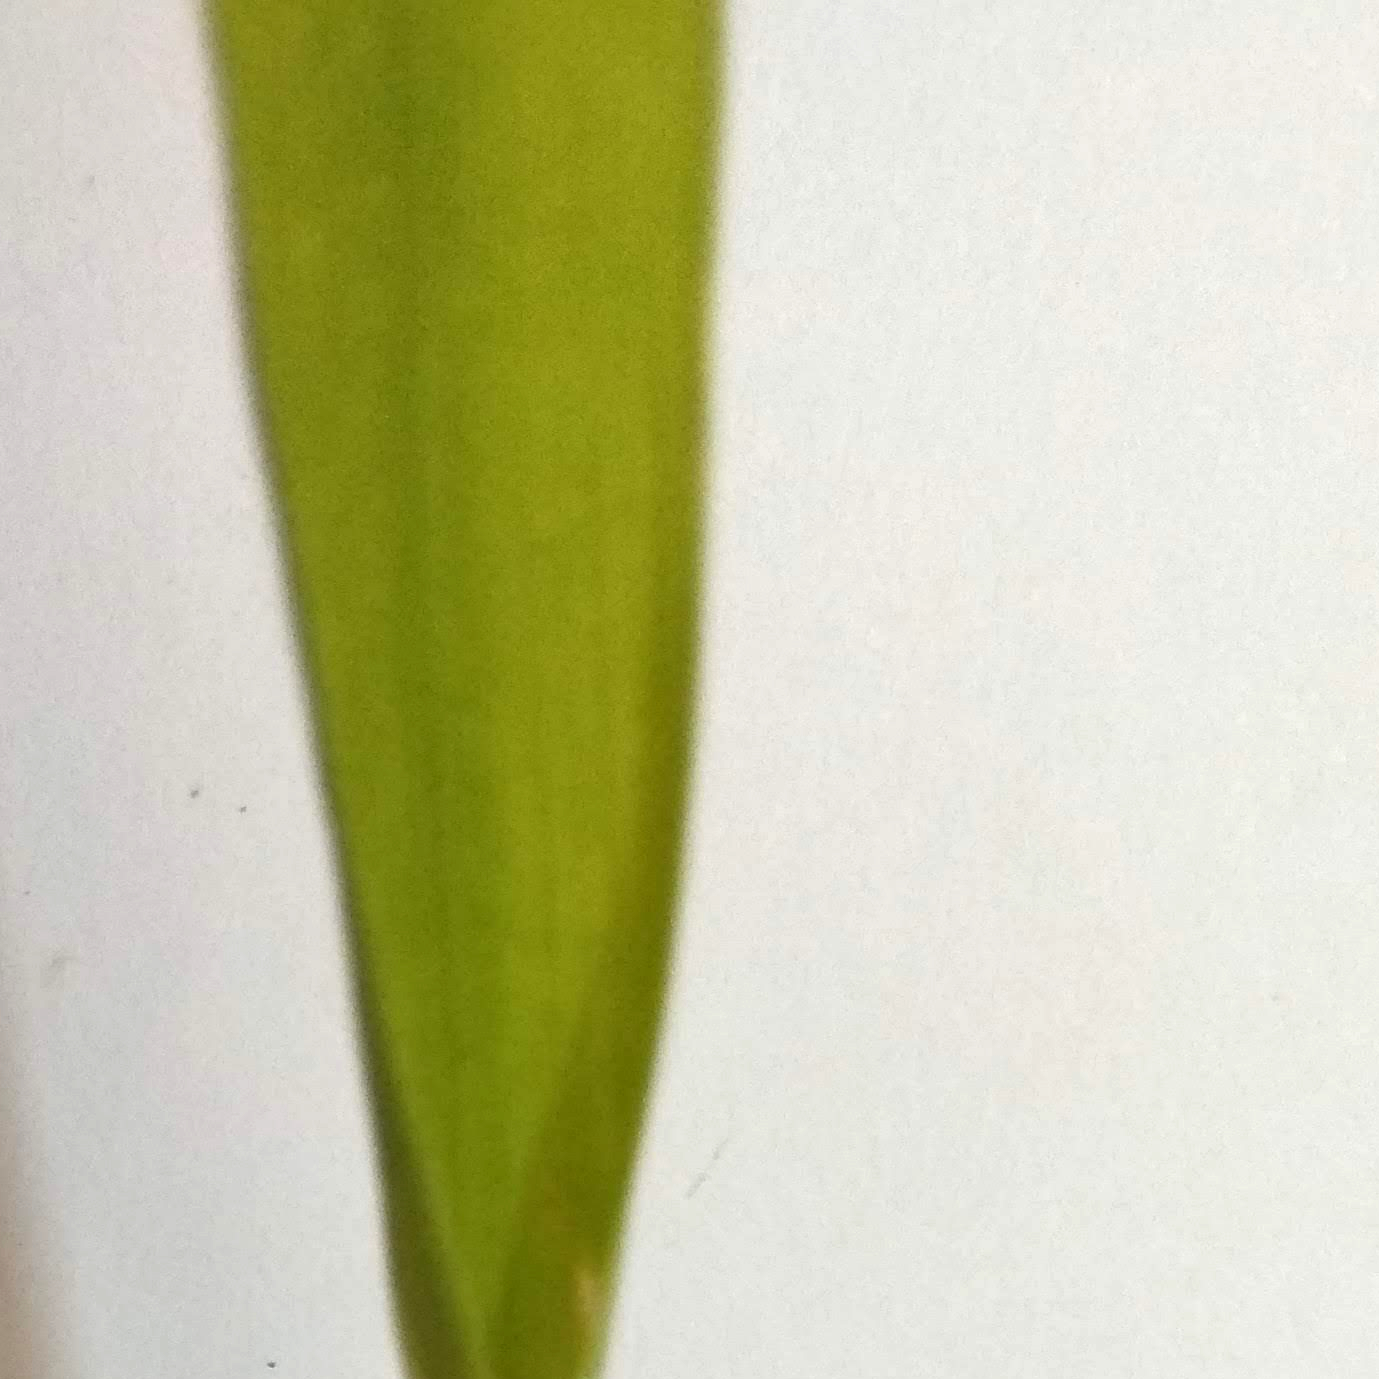healthy: (189, 4, 753, 1379)
